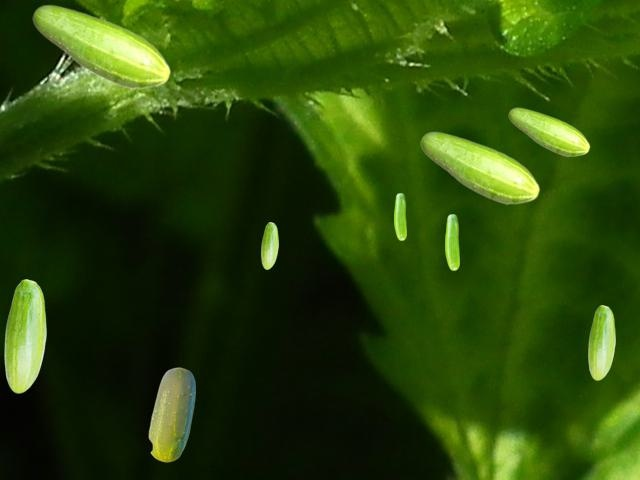cucumber: (32, 4, 170, 89), (420, 131, 539, 204), (4, 279, 45, 392), (148, 367, 194, 461), (508, 107, 589, 156), (588, 305, 614, 379), (261, 222, 277, 268), (445, 214, 458, 269), (394, 193, 405, 239)
